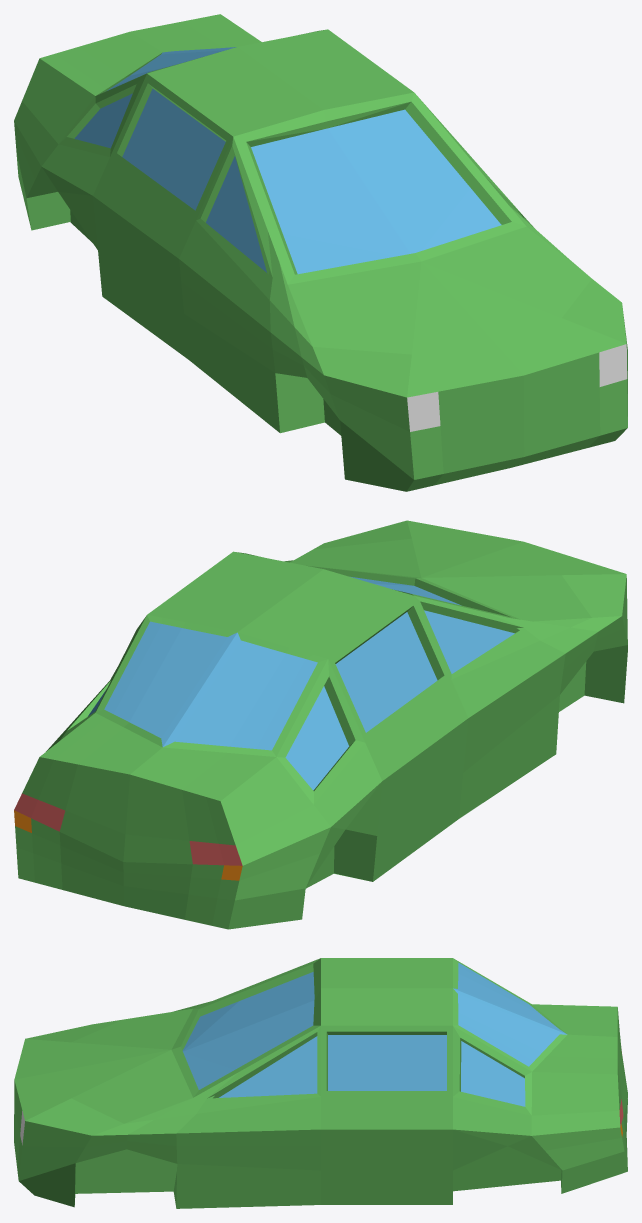
The model's file is green sedan.fbx.
3 renders of one model, top to bottom at view 1: azimuth 30°, elevation 25°; view 2: azimuth 150°, elevation 25°; view 3: azimuth 270°, elevation 25°, orthographic. The views are drawn at different scales.
Parts seen in each view (by area): view 1: Cube; view 2: Cube; view 3: Cube.
Part boxes in pixels (x1,y1,x2,y2): Cube: (14, 14, 627, 491); Cube: (14, 520, 627, 929); Cube: (14, 958, 627, 1208).
Bounding box in the file's own units: 399 × 283 × 930.
